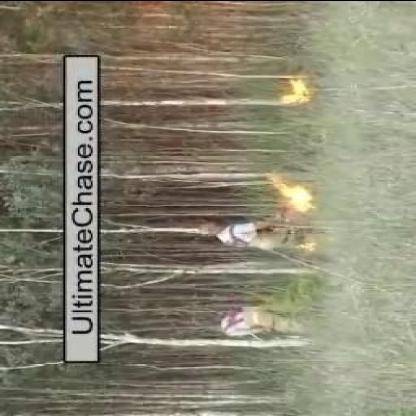foggia-v2-map80-epoch100 - v1 4323: (282, 185, 314, 213), (284, 78, 312, 103)
